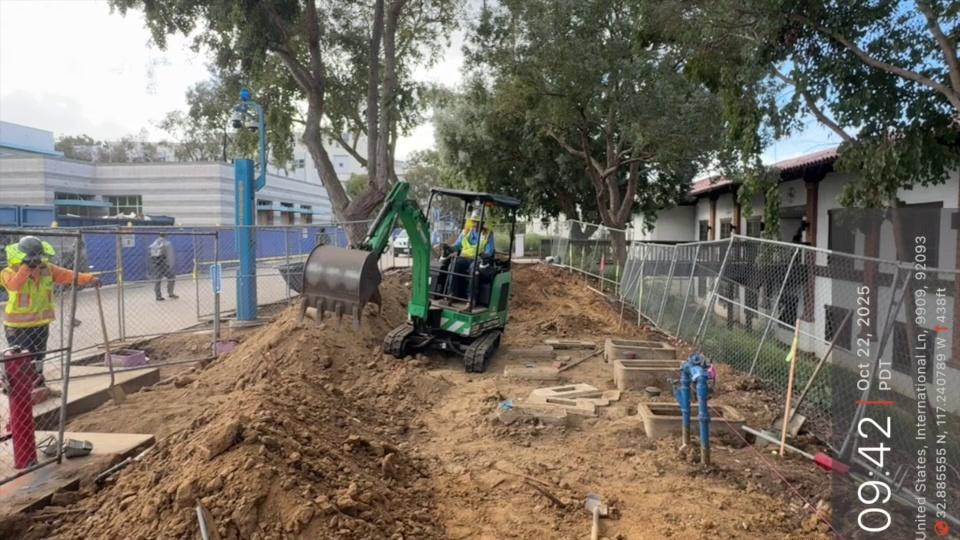Exacavator: (278, 179, 522, 373)
